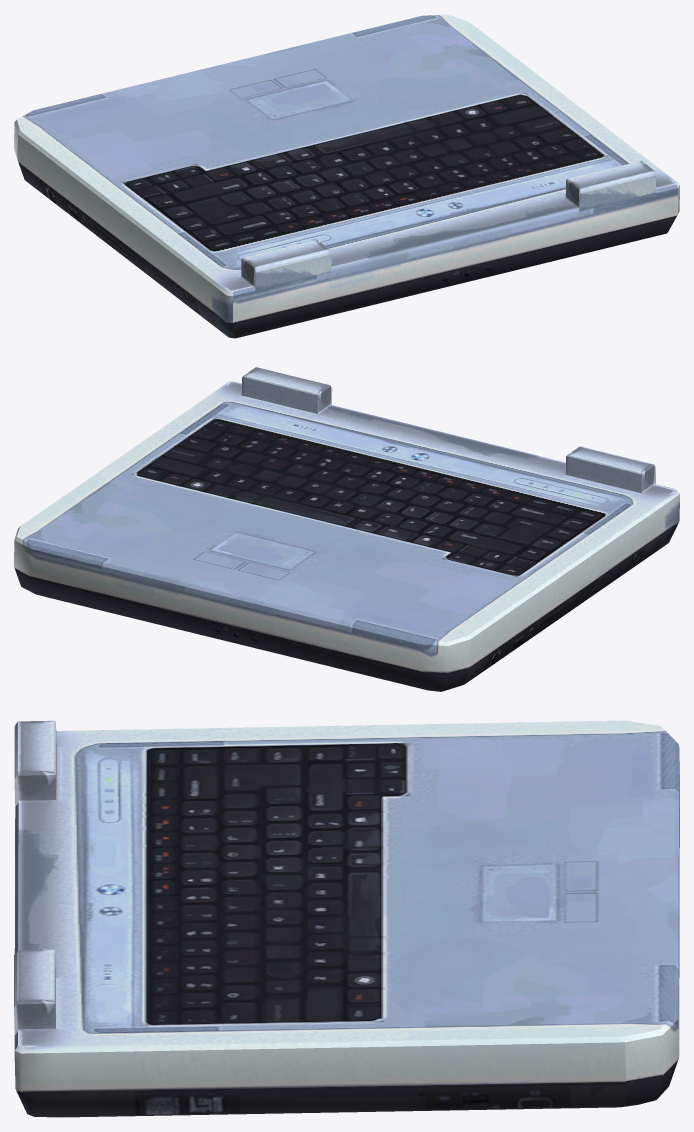
Rendered from Laptop2_H1.obj.
The picture shows the model from 3 angles, top to bottom: view 1: azimuth 30°, elevation 25°; view 2: azimuth 150°, elevation 25°; view 3: azimuth 270°, elevation 25°; orthographic projection. The views are drawn at different scales.
Visible parts, largest first — view 1: Laptop2_H1; view 2: Laptop2_H1; view 3: Laptop2_H1.
Part boxes in pixels (<box>): Laptop2_H1: <box>14,14,679,338</box>; Laptop2_H1: <box>14,367,679,691</box>; Laptop2_H1: <box>14,720,679,1117</box>.
Bounding box in the file's own units: 0.2604 × 0.0429 × 0.2295.
Materials: 1 (1 with a texture image).
